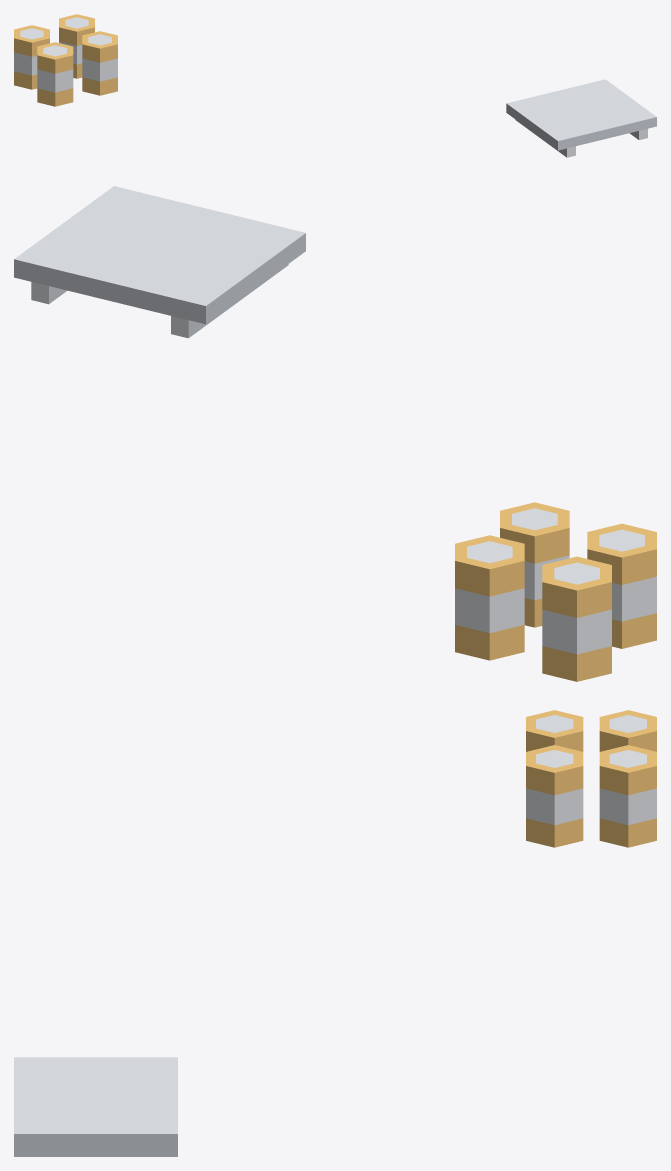
The model's file is barrels.glb.
3 views of the same model, one above another, from view 1: azimuth 30°, elevation 25°; view 2: azimuth 150°, elevation 25°; view 3: azimuth 270°, elevation 25° (orthographic). The views are drawn at different scales.
Parts seen in each view (by area): view 1: barrels, barrel.001, barrel.003, barrel.002, barrel.004; view 2: barrels, barrel.002, barrel.004, barrel.001, barrel.003; view 3: barrels, barrel.003, barrel.004, barrel.001, barrel.002.
Boxes of the visible parts, x1,y1,x2,y2 form: barrels: (506, 79, 656, 157); barrel.001: (37, 42, 73, 106); barrel.003: (82, 31, 117, 95); barrel.002: (14, 25, 49, 89); barrel.004: (59, 14, 94, 78); barrels: (14, 186, 305, 338); barrel.002: (542, 556, 611, 681); barrel.004: (455, 535, 524, 660); barrel.001: (587, 523, 656, 648); barrel.003: (500, 502, 569, 627); barrels: (14, 1057, 177, 1156); barrel.003: (526, 745, 583, 847); barrel.004: (599, 745, 656, 847); barrel.001: (526, 710, 583, 751); barrel.002: (599, 710, 656, 751).
Size of the model in its own units: 2.5 by 0.35 by 1.95.
